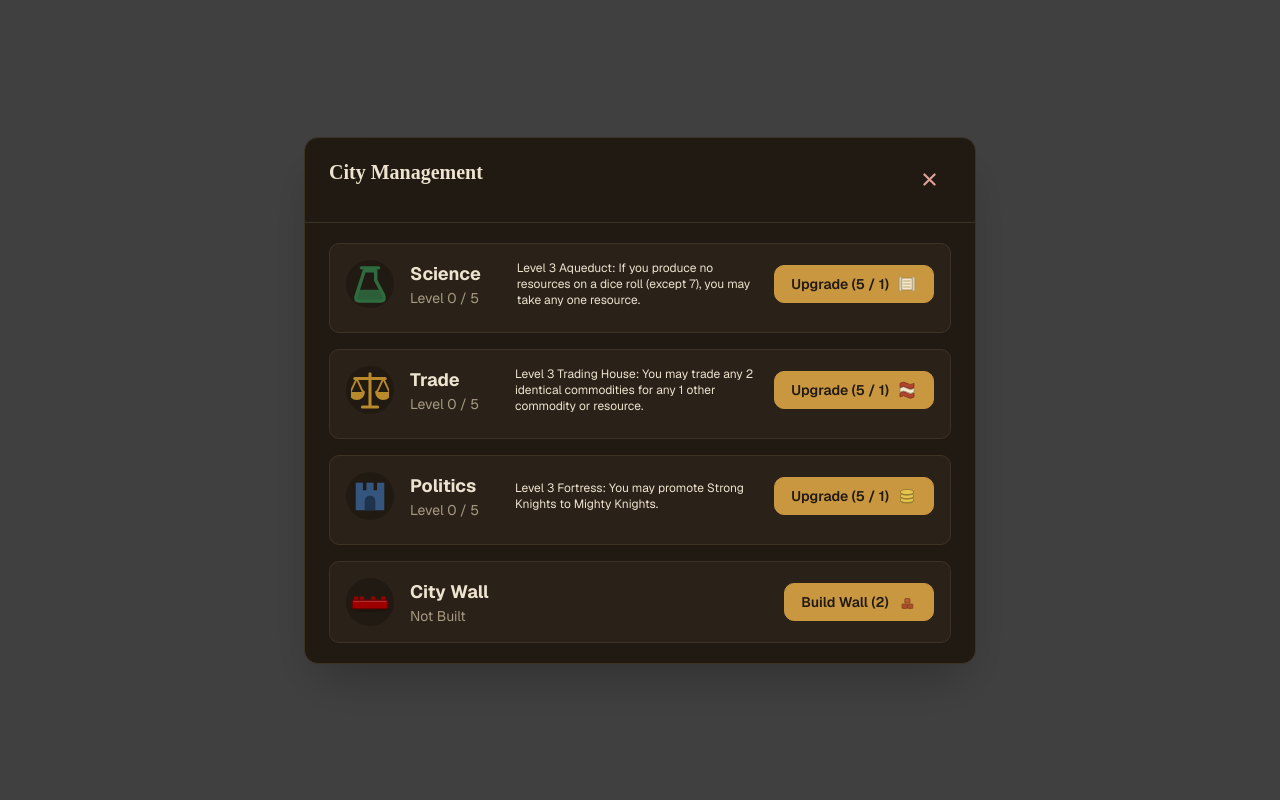
Test: management dialog error handling › uses a safe fallback when building a city wall rejects a non-Error
Click the button "Build Wall (2)" at (859, 602), box top-left (784, 582), bottom-right (934, 620)
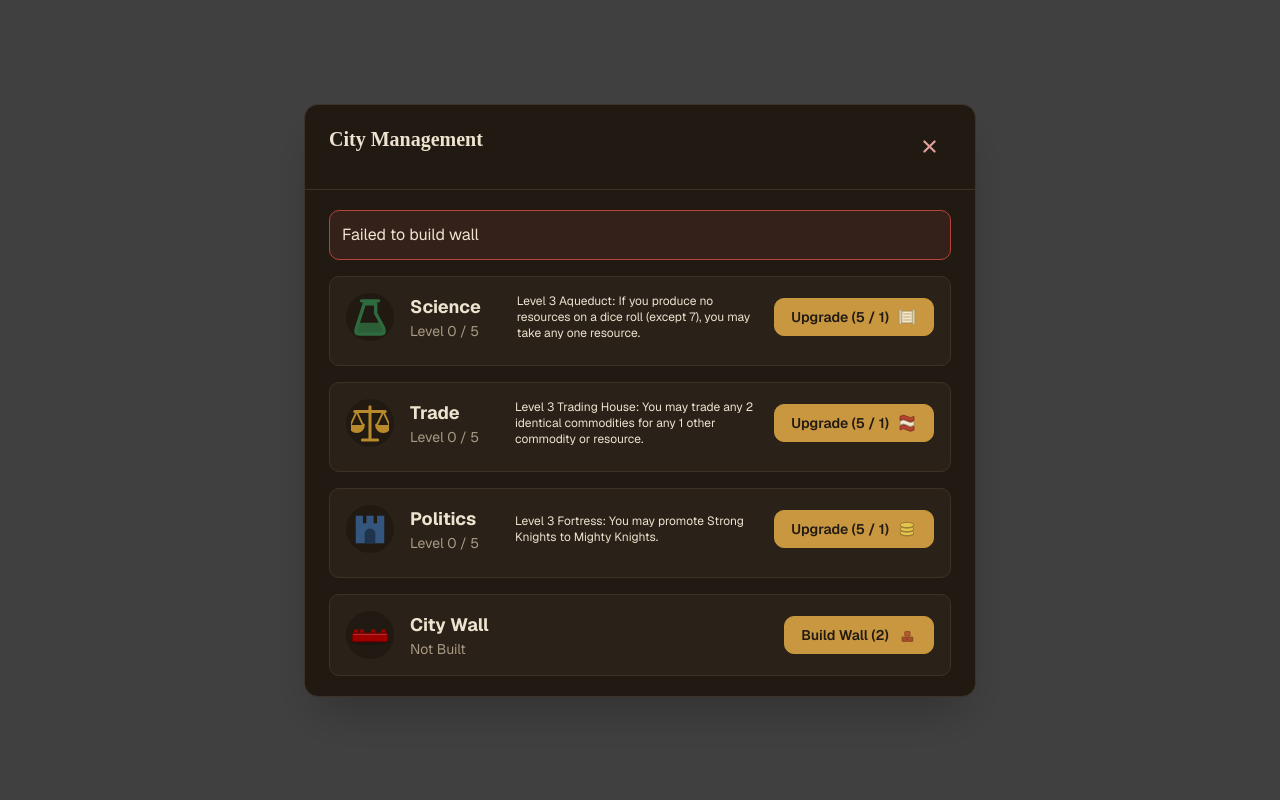
Now the message reads "Failed to build wall", box top-left (342, 224), bottom-right (479, 244)
